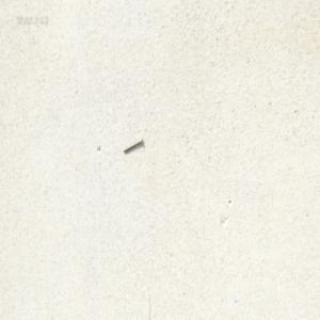Bolttrack_idkeyframe: (122, 136, 142, 153)
